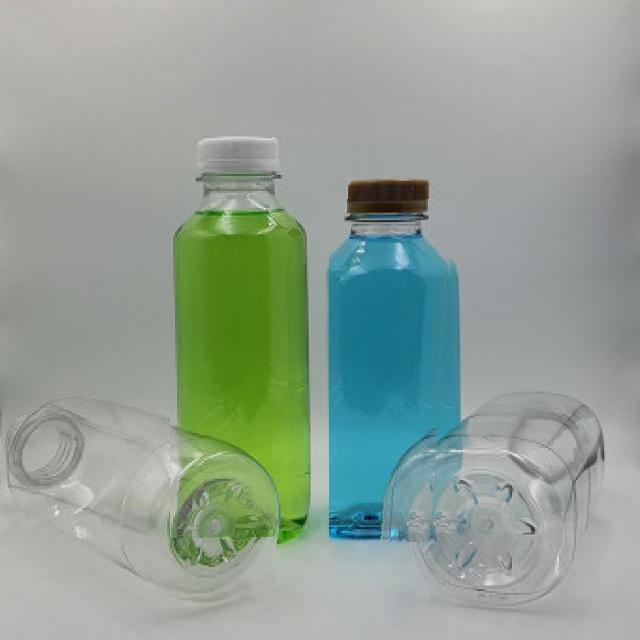plastic bottle: (6, 399, 282, 606), (170, 136, 310, 538), (330, 178, 458, 542)
